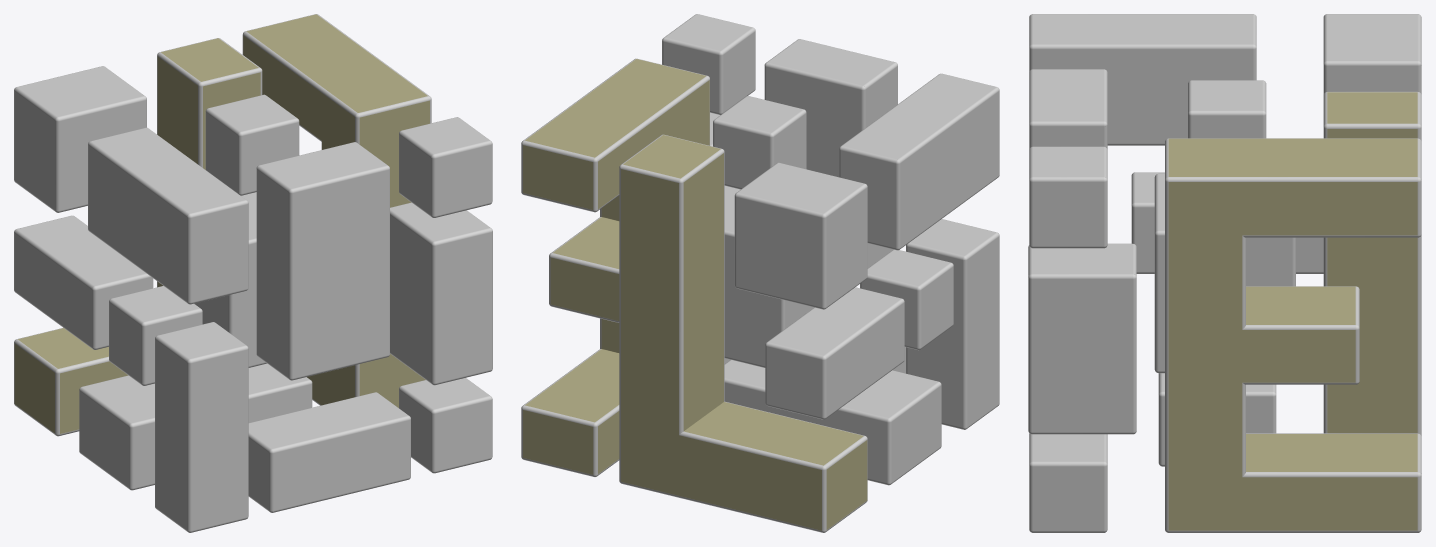
File: EL Cubes.glb
The picture shows the model from 3 angles, left to right: view 1: azimuth 30°, elevation 25°; view 2: azimuth 150°, elevation 25°; view 3: azimuth 270°, elevation 25°; orthographic projection. The views are drawn at different scales.
Parts seen in each view (by area): view 1: cubes, EL; view 2: cubes, EL; view 3: EL, cubes.
Part boxes in pixels (left/top/right/bottom): cubes: left=14, top=66, right=492, bottom=532; EL: left=14, top=14, right=431, bottom=436; cubes: left=662, top=14, right=999, bottom=485; EL: left=521, top=58, right=867, bottom=532; EL: left=1165, top=91, right=1421, bottom=532; cubes: left=1028, top=14, right=1421, bottom=532.
Size of the model in its own units: 10 by 10 by 10.02.
